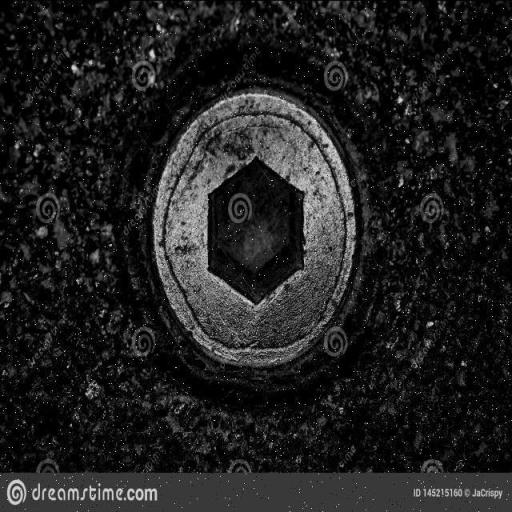Hex-Allen: (130, 70, 378, 386)
